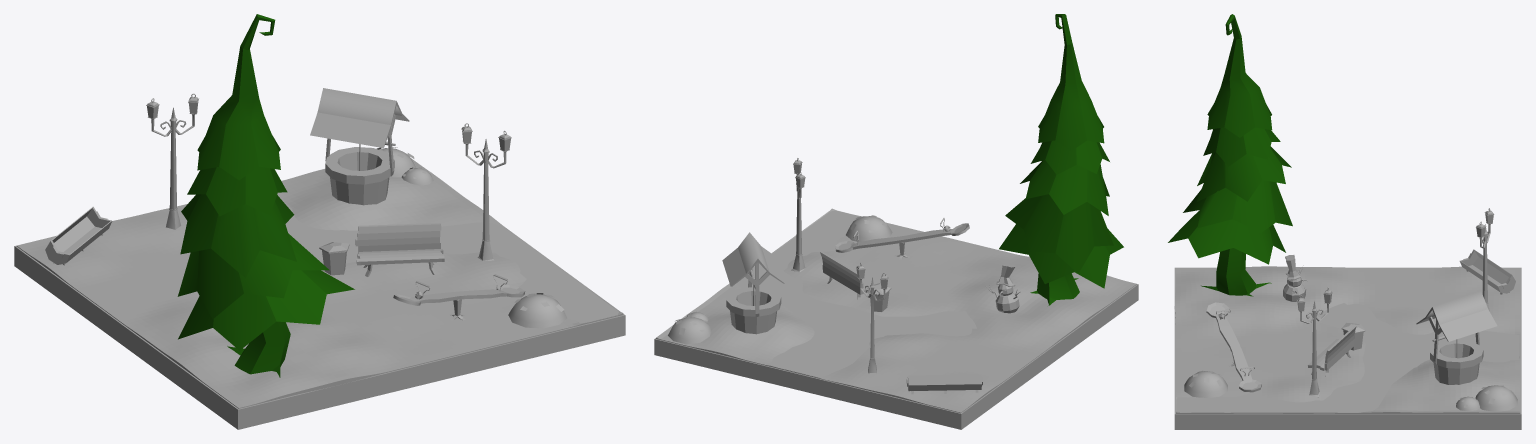
The model's file is place_village_v1.fbx.
The picture shows the model from 3 angles, left to right: view 1: azimuth 30°, elevation 25°; view 2: azimuth 150°, elevation 25°; view 3: azimuth 270°, elevation 25°; orthographic projection. The views are drawn at different scales.
Parts seen in each view (by area): view 1: sol21, sapin6, sol4, puit, chemin, banc, abreuvoir, Buisson8, lampadaire1, lampadaire, tape_cul, poubelle1; view 2: sol21, sapin6, chemin, sol4, puit, abreuvoir, tape_cul, banc, Buisson9, Buisson8, lampadaire1, lampadaire; view 3: sol21, sapin6, chemin, sol4, puit, tape_cul, abreuvoir, Buisson8, Buisson9, banc, lampadaire, lampadaire1.
Boxes of the visible parts, <box> form: sol21: <box>16,158,623,408</box>; sapin6: <box>177,14,354,377</box>; sol4: <box>14,194,625,429</box>; puit: <box>310,88,409,205</box>; chemin: <box>284,203,618,323</box>; banc: <box>355,223,444,276</box>; abreuvoir: <box>45,206,112,265</box>; Buisson8: <box>508,293,567,328</box>; lampadaire1: <box>146,93,198,229</box>; lampadaire: <box>461,123,511,261</box>; tape_cul: <box>393,274,525,305</box>; poubelle1: <box>319,242,349,275</box>; sol21: <box>656,208,1136,413</box>; sapin6: <box>999,14,1123,305</box>; chemin: <box>736,210,976,377</box>; sol4: <box>654,211,1138,429</box>; puit: <box>722,232,784,334</box>; abreuvoir: <box>906,374,982,394</box>; tape_cul: <box>835,218,969,252</box>; banc: <box>820,251,871,302</box>; Buisson9: <box>668,316,711,344</box>; Buisson8: <box>846,215,892,241</box>; lampadaire1: <box>856,263,888,373</box>; lampadaire: <box>791,158,805,272</box>; sol21: <box>1174,266,1520,413</box>; sapin6: <box>1168,14,1292,296</box>; chemin: <box>1176,303,1519,413</box>; sol4: <box>1174,267,1521,429</box>; puit: <box>1416,291,1497,384</box>; tape_cul: <box>1206,302,1261,392</box>; abreuvoir: <box>1459,249,1515,294</box>; Buisson8: <box>1184,370,1227,397</box>; Buisson9: <box>1475,385,1517,411</box>; banc: <box>1308,326,1356,377</box>; lampadaire: <box>1296,287,1332,397</box>; lampadaire1: <box>1476,208,1494,311</box>.
Size of the model in its own units: 821 by 740 by 817.
